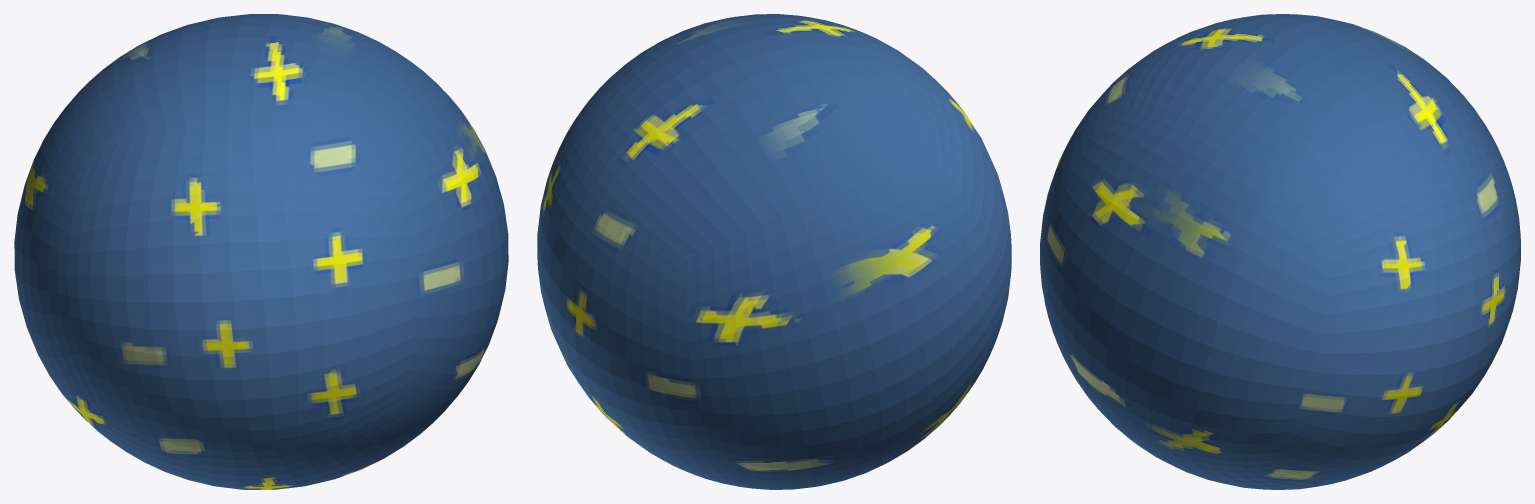
Rendered from atom.glb.
The picture shows the model from 3 angles, left to right: view 1: azimuth 30°, elevation 25°; view 2: azimuth 150°, elevation 25°; view 3: azimuth 270°, elevation 25°; orthographic projection.
Visible parts, largest first — view 1: node_id4_1; view 2: node_id4_1; view 3: node_id4_1.
Boxes of the visible parts, <box> form: node_id4_1: <box>14,14,508,489</box>; node_id4_1: <box>537,14,1011,489</box>; node_id4_1: <box>1040,14,1520,489</box>.
Size of the model in its own units: 0.4601 by 0.4497 by 0.4549.
1 material, 1 textured.
